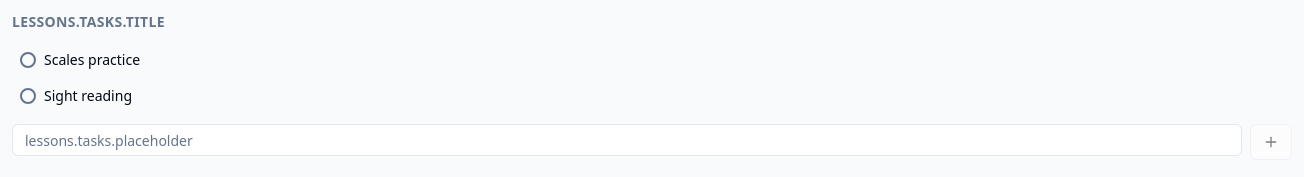
Scenario: CourseTasksSection › add button becomes enabled when input has text
The image size is (1304, 177).
Type "New task" into the field with placeholder "lessons.tasks.placeholder" at (627, 140), box [12, 124, 1242, 156]
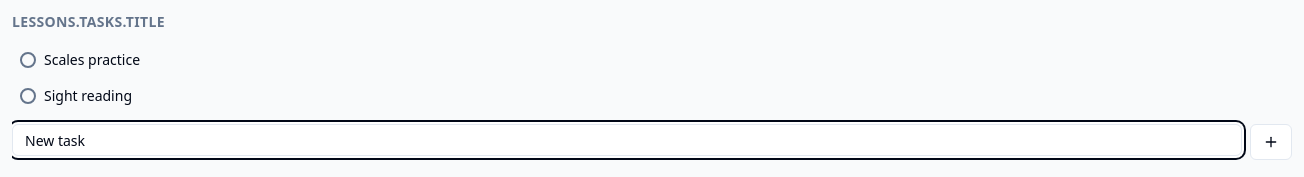
Now the button named "common.actions.add" is enabled, box [1250, 124, 1292, 160]
